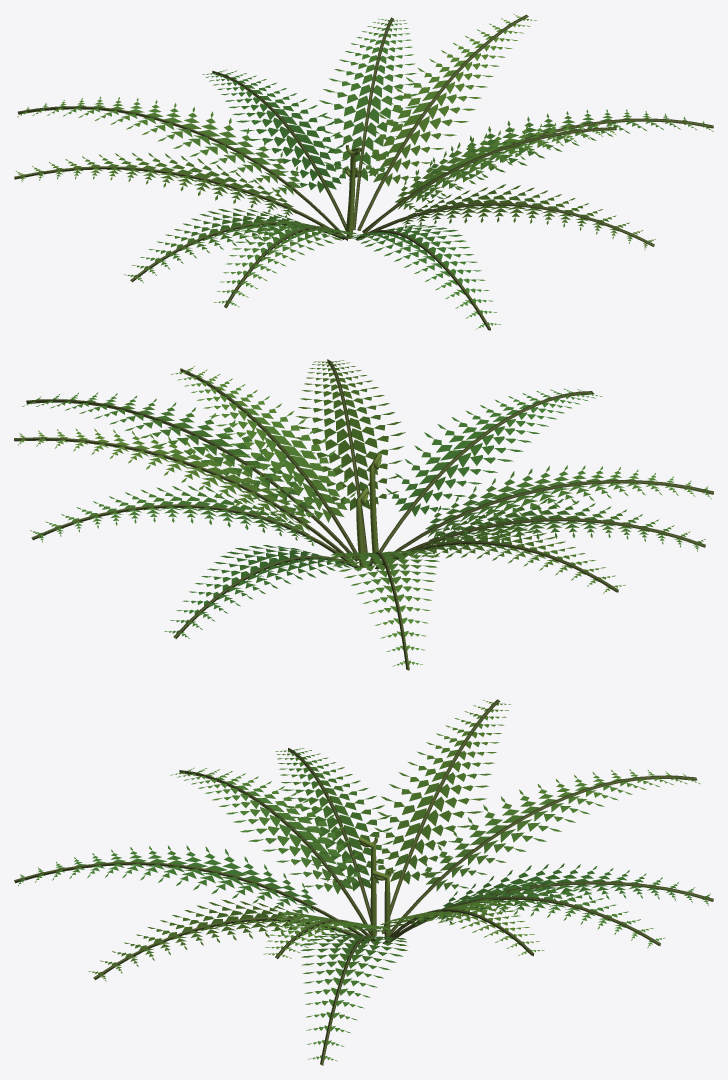
Rendered from fern-lady-b.lod0.glb.
The picture shows the model from 3 angles, top to bottom: view 1: azimuth 30°, elevation 25°; view 2: azimuth 150°, elevation 25°; view 3: azimuth 270°, elevation 25°; orthographic projection. The views are drawn at different scales.
Parts seen in each view (by area): view 1: fern-lady-b.lod0; view 2: fern-lady-b.lod0; view 3: fern-lady-b.lod0.
Boxes of the visible parts, x1=… form: fern-lady-b.lod0: x1=14, y1=14, x2=713, y2=330; fern-lady-b.lod0: x1=14, y1=359, x2=713, y2=670; fern-lady-b.lod0: x1=14, y1=699, x2=713, y2=1065.
Bounding box in the file's own units: 1.81 × 0.3063 × 1.66.
